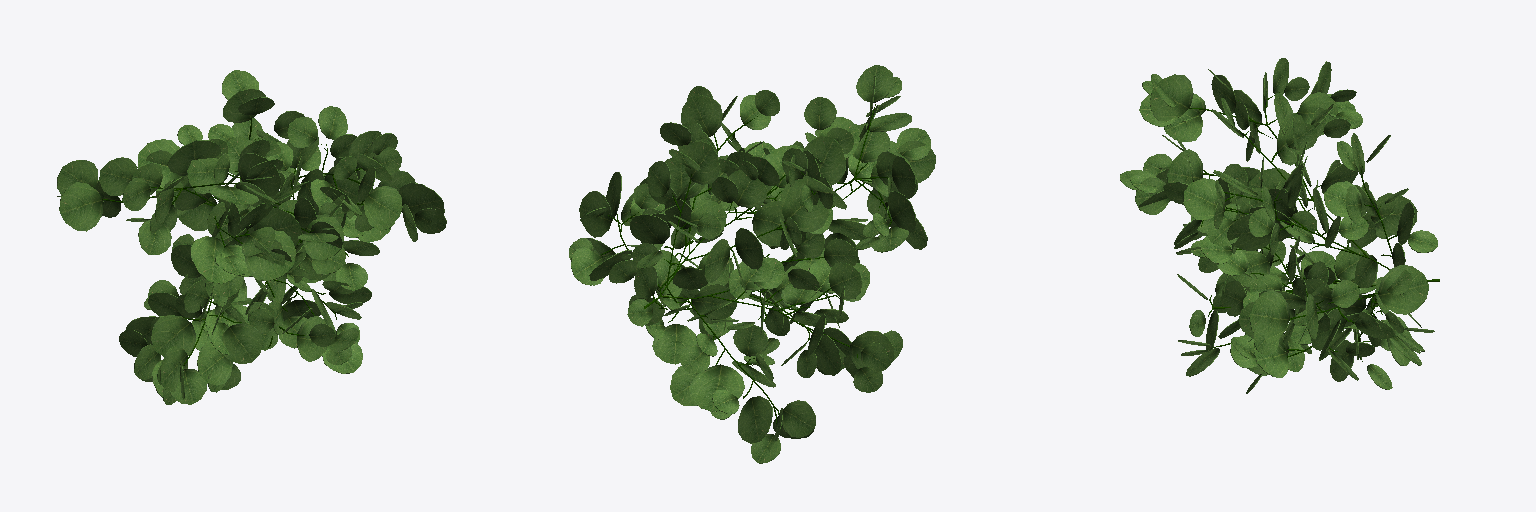
3 renders of one model, left to right at view 1: azimuth 30°, elevation 25°; view 2: azimuth 150°, elevation 25°; view 3: azimuth 270°, elevation 25°, orthographic.
Visible parts, largest first — view 1: leaves.012, tree.012; view 2: leaves.012, tree.012; view 3: leaves.012, tree.012.
Part boxes in pixels (x1,y1,x2,y2): leaves.012: (57,70,446,404); tree.012: (102,117,401,365); leaves.012: (569,65,935,463); tree.012: (601,104,891,423); leaves.012: (1120,58,1437,393); tree.012: (1189,92,1439,361).
Bounding box in the file's own units: 0.5845 × 0.4862 × 0.4543.
Materials: 2 (2 with a texture image).